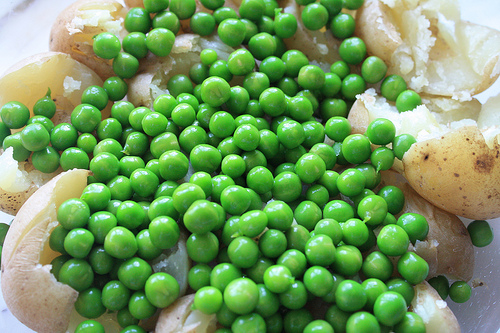boiled peas: (30, 8, 427, 332)
boiled potatoes: (360, 2, 500, 98), (6, 169, 90, 327), (409, 111, 500, 220), (7, 49, 107, 121)
